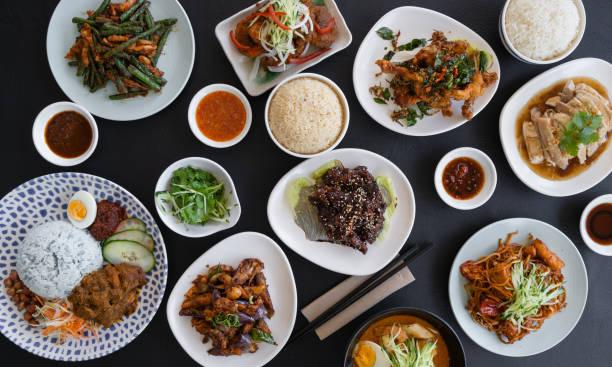Braised Crucian Carp: (0, 172, 165, 362), (351, 4, 499, 138), (449, 217, 587, 358), (265, 147, 411, 275), (45, 0, 191, 122), (165, 232, 295, 366), (499, 57, 611, 198), (213, 0, 348, 97)
